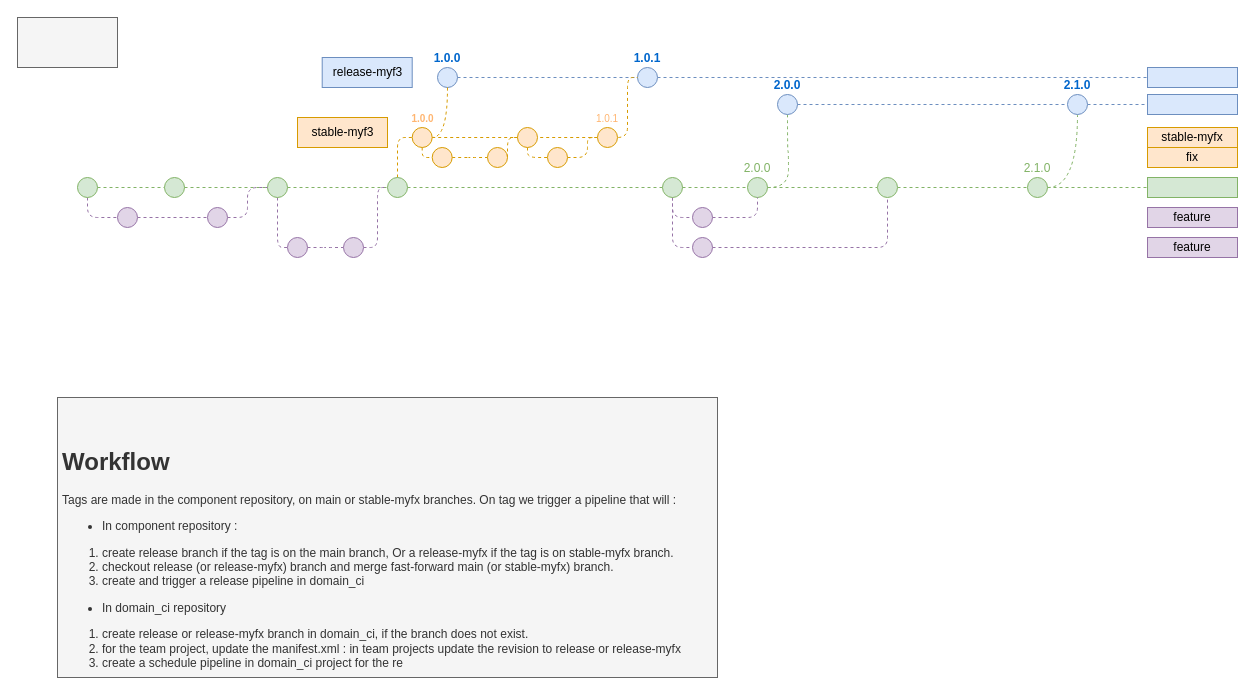
Image size: 1255x695. Some labels were removed from this diagram. Here are the shapes that lost their labels. From the top down, the centre of each, then its label:
At point (67, 42): "Component".
At point (1192, 77): "release-myfx".
At point (1192, 104): "release".
At point (1192, 187): "main".
